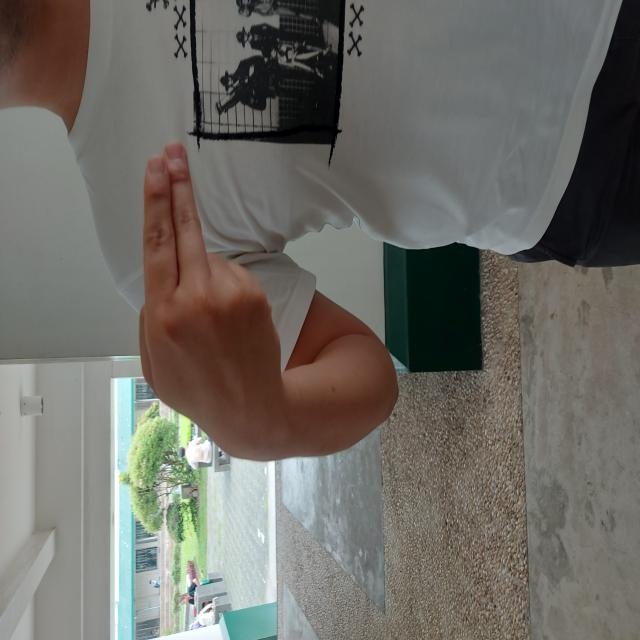H: (179, 134, 504, 285)
